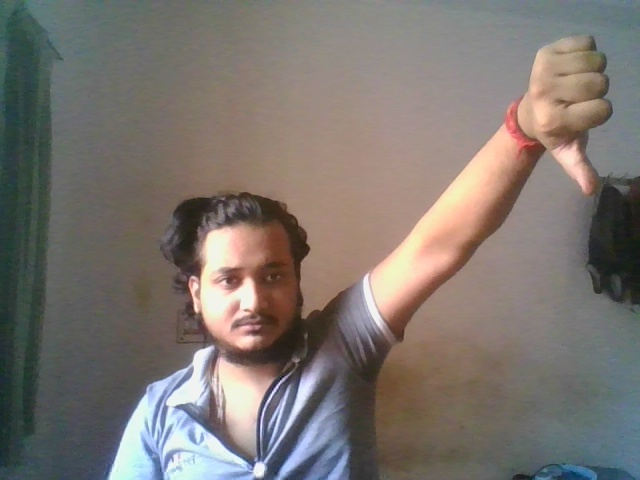ThumbsDown: (528, 33, 612, 195)
